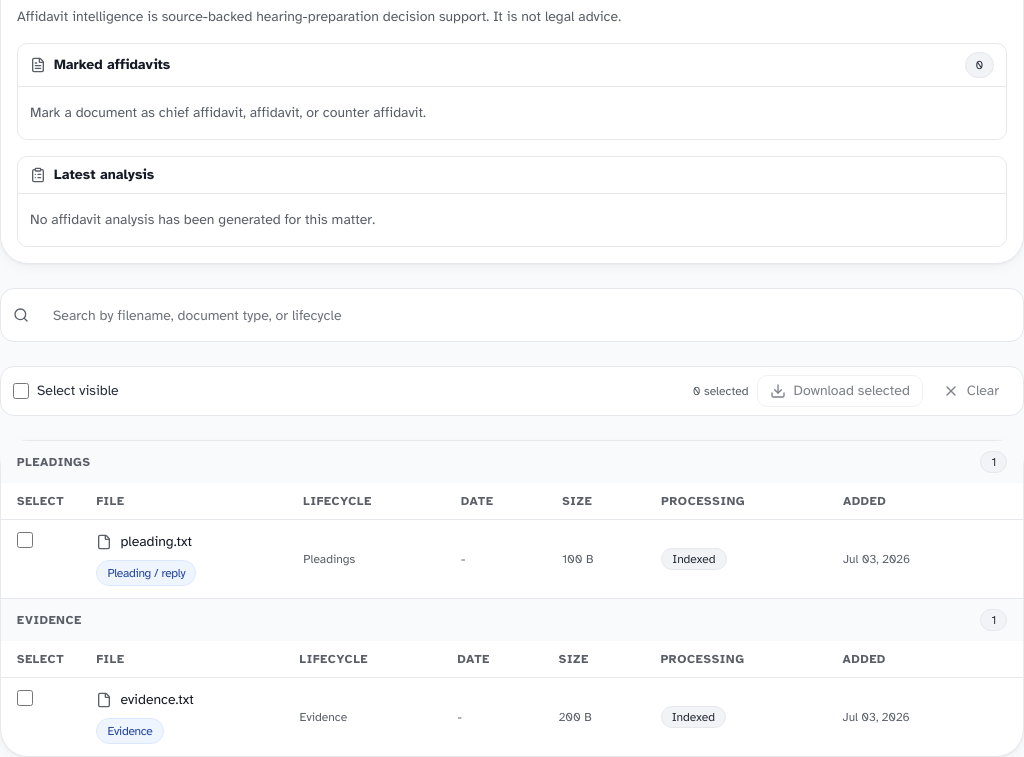
Test: MatterDocumentsPage › builds a bulk ZIP download link for selected documents
(page scrolled)
expect the button with test id "matter-documents-bulk-download" is disabled: met, box [757,375,923,407]
Click the checkbox with test id "matter-document-select-a1" at (25, 540), box [17,532,33,548]
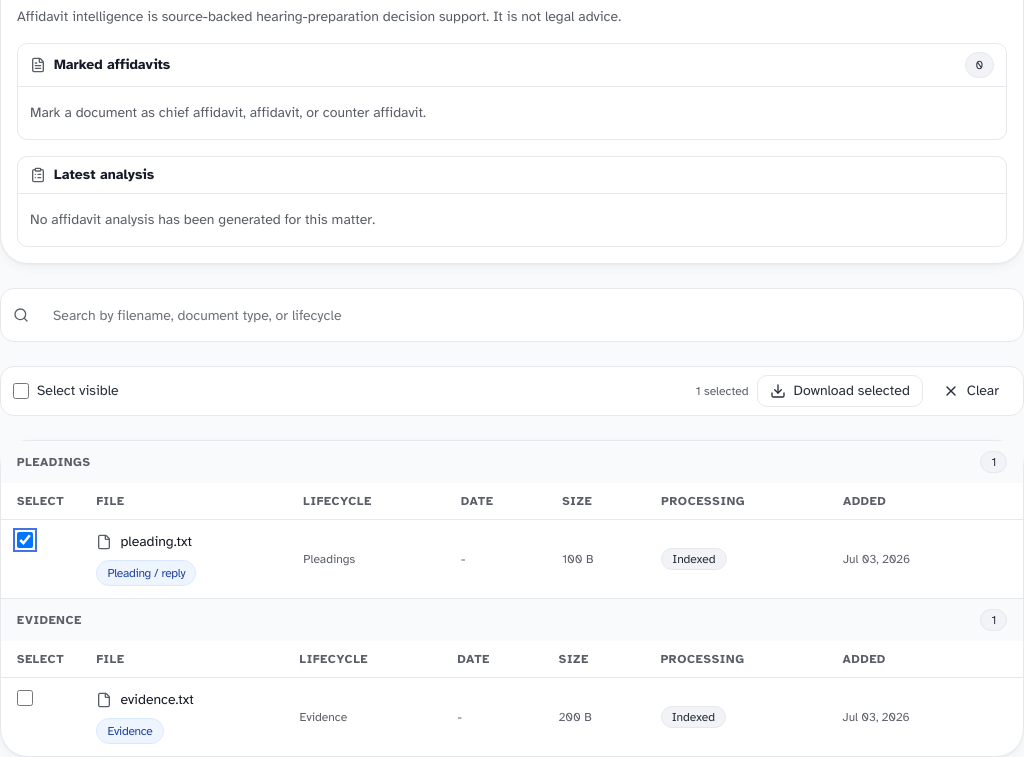
expect the text with test id "matter-documents-selected-count" reads "1 selected": met, box [696,383,749,399]
Click the checkbox with test id "matter-documents-select-visible" at (21, 391), box [13,383,29,399]
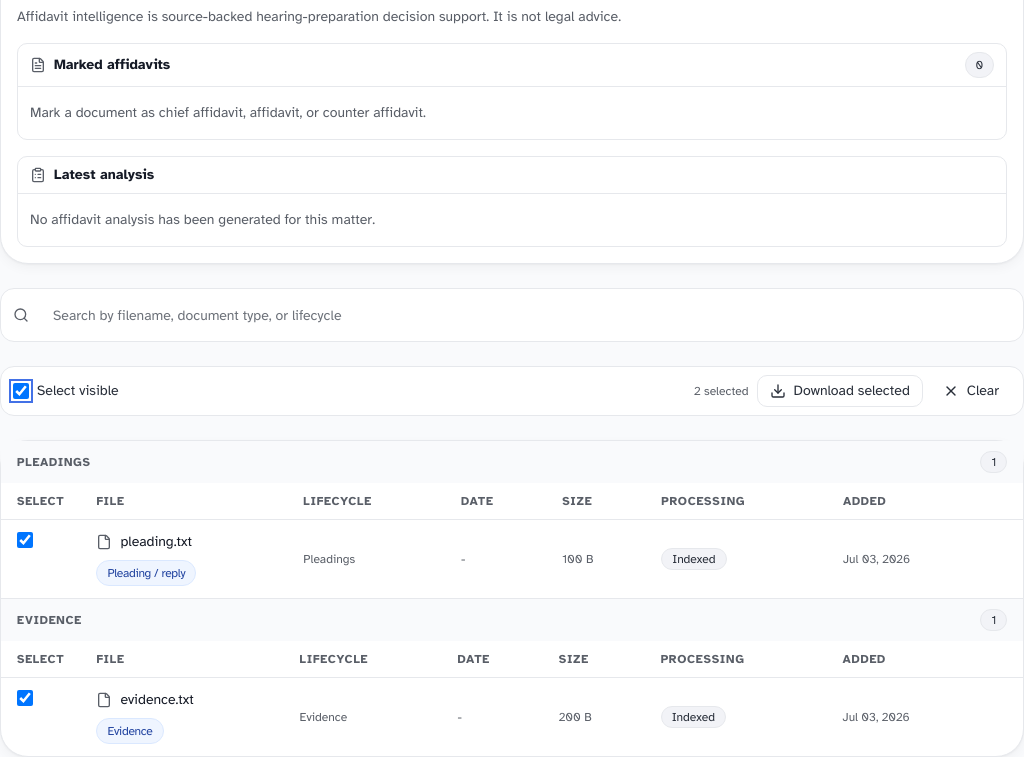
expect the text with test id "matter-documents-selected-count" reads "2 selected": met, box [694,383,748,399]
